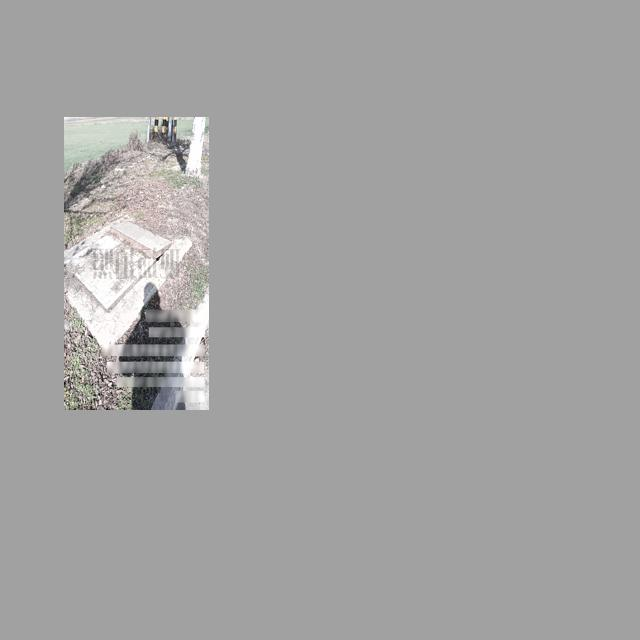uncovered: (69, 214, 174, 293)
